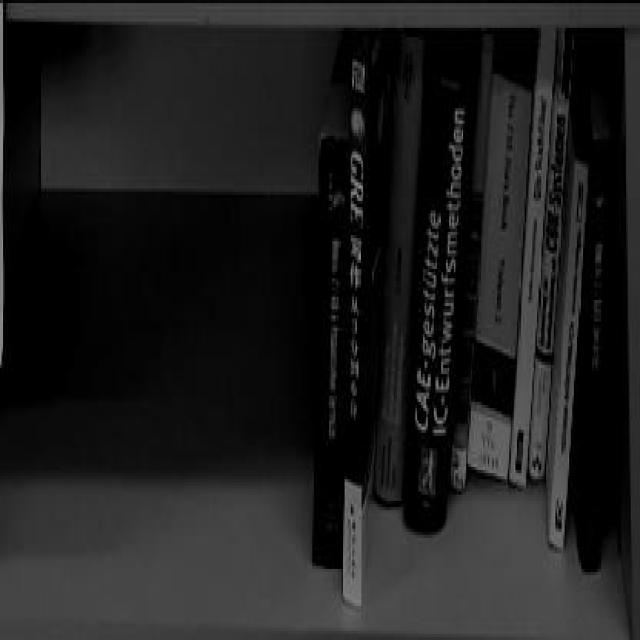book: (402, 51, 472, 532), (474, 64, 528, 479), (309, 98, 349, 571), (575, 96, 609, 571), (346, 42, 370, 612)
